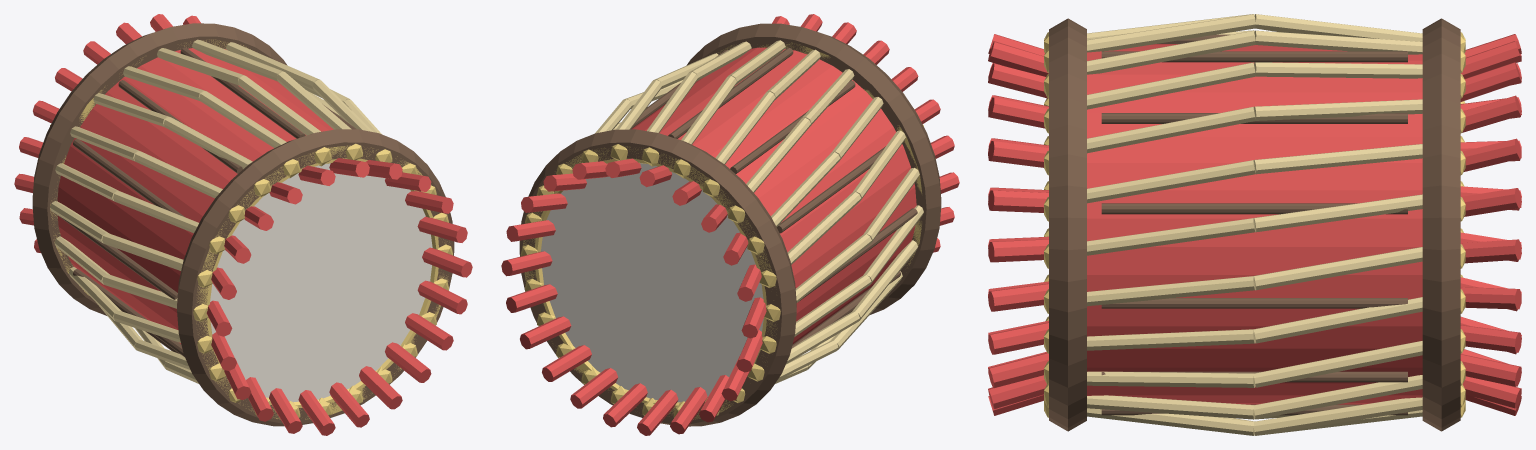
File: noh_kotsuzumi.glb
3 renders of one model, left to right at view 1: azimuth 30°, elevation 25°; view 2: azimuth 150°, elevation 25°; view 3: azimuth 270°, elevation 25°, orthographic. The views are drawn at different scales.
Parts seen in each view (by area): view 1: Tsuzumi hourglass multi-strand hand drum taut drum skin, Tsuzumi hourglass multi-strand hand drum hardwood shell, Tsuzumi hourglass multi-strand hand drum leather head rim, Tsuzumi hourglass multi-strand hand drum tightening rope_00. (×11), Tsuzumi hourglass multi-strand hand drum leather head rim.00, Tsuzumi hourglass multi-strand hand drum tightening rope_01. (×10), Tsuzumi lashing flange, Tsuzumi hourglass multi-strand hand drum wood grain.005, Tsuzumi hourglass multi-strand hand drum wood grain.003, Tsuzumi hourglass multi-strand hand drum wood grain.006, Hourglass tsuzumi cross cord_00.020, Hourglass tsuzumi cross cord_00.019 (+23 smaller); view 2: Tsuzumi hourglass multi-strand hand drum taut drum skin.001, Tsuzumi hourglass multi-strand hand drum hardwood shell, Tsuzumi hourglass multi-strand hand drum leather head rim.00, Tsuzumi hourglass multi-strand hand drum tightening rope_01. (×12), Tsuzumi hourglass multi-strand hand drum leather head rim, Tsuzumi hourglass multi-strand hand drum tightening rope_00. (×11), Tsuzumi lashing flange.001, Tsuzumi hourglass multi-strand hand drum wood grain.005, Tsuzumi hourglass multi-strand hand drum wood grain.003, Hourglass tsuzumi cross cord_01.017, Hourglass tsuzumi cross cord_01.018, Hourglass tsuzumi cross cord_01.016 (+23 smaller); view 3: Tsuzumi hourglass multi-strand hand drum hardwood shell, Tsuzumi hourglass multi-strand hand drum tightening rope_00. (×11), Tsuzumi hourglass multi-strand hand drum tightening rope_01. (×11), Tsuzumi hourglass multi-strand hand drum leather head rim.00, Tsuzumi hourglass multi-strand hand drum leather head rim, Tsuzumi hourglass multi-strand hand drum wood grain, Tsuzumi hourglass multi-strand hand drum wood grain.003, Tsuzumi hourglass multi-strand hand drum wood grain.001, Tsuzumi hourglass multi-strand hand drum tightening rope_01, Tsuzumi hourglass multi-strand hand drum tightening rope_00, Tsuzumi hourglass multi-strand hand drum wood grain.002, Tsuzumi hourglass multi-strand hand drum wood grain.011 (+21 smaller).
Boxes of the visible parts, left/top/right/bottom form: Tsuzumi hourglass multi-strand hand drum taut drum skin: left=210, top=163, right=432, bottom=402; Tsuzumi hourglass multi-strand hand drum hardwood shell: left=57, top=48, right=333, bottom=343; Tsuzumi hourglass multi-strand hand drum leather head rim: left=177, top=129, right=454, bottom=426; Tsuzumi hourglass multi-strand hand drum tightening rope_00. (×11): left=102, top=71, right=373, bottom=369; Tsuzumi hourglass multi-strand hand drum leather head rim.00: left=32, top=23, right=287, bottom=315; Tsuzumi hourglass multi-strand hand drum tightening rope_01. (×10): left=50, top=39, right=319, bottom=320; Tsuzumi lashing flange: left=196, top=145, right=449, bottom=419; Tsuzumi hourglass multi-strand hand drum wood grain.005: left=73, top=139, right=184, bottom=216; Tsuzumi hourglass multi-strand hand drum wood grain.003: left=180, top=47, right=305, bottom=138; Tsuzumi hourglass multi-strand hand drum wood grain.006: left=57, top=215, right=177, bottom=299; Hourglass tsuzumi cross cord_00.020: left=405, top=313, right=453, bottom=350; Hourglass tsuzumi cross cord_00.019: left=385, top=342, right=431, bottom=382; Tsuzumi hourglass multi-strand hand drum taut drum skin.001: left=541, top=163, right=763, bottom=402; Tsuzumi hourglass multi-strand hand drum hardwood shell: left=631, top=47, right=916, bottom=344; Tsuzumi hourglass multi-strand hand drum leather head rim.00: left=519, top=129, right=796, bottom=426; Tsuzumi hourglass multi-strand hand drum tightening rope_01. (×12): left=595, top=72, right=871, bottom=380; Tsuzumi hourglass multi-strand hand drum leather head rim: left=686, top=23, right=941, bottom=314; Tsuzumi hourglass multi-strand hand drum tightening rope_00. (×11): left=653, top=40, right=923, bottom=349; Tsuzumi lashing flange.001: left=522, top=145, right=777, bottom=419; Tsuzumi hourglass multi-strand hand drum wood grain.005: left=777, top=146, right=885, bottom=233; Tsuzumi hourglass multi-strand hand drum wood grain.003: left=668, top=47, right=793, bottom=138; Hourglass tsuzumi cross cord_01.017: left=570, top=368, right=618, bottom=408; Hourglass tsuzumi cross cord_01.018: left=542, top=345, right=591, bottom=381; Hourglass tsuzumi cross cord_01.016: left=603, top=383, right=647, bottom=427; Tsuzumi hourglass multi-strand hand drum hardwood shell: left=1087, top=44, right=1422, bottom=404; Tsuzumi hourglass multi-strand hand drum tightening rope_00. (×11): left=1087, top=14, right=1255, bottom=435; Tsuzumi hourglass multi-strand hand drum tightening rope_01. (×11): left=1253, top=14, right=1422, bottom=435; Tsuzumi hourglass multi-strand hand drum leather head rim.00: left=1422, top=18, right=1460, bottom=431; Tsuzumi hourglass multi-strand hand drum leather head rim: left=1049, top=18, right=1086, bottom=431; Tsuzumi hourglass multi-strand hand drum wood grain: left=1101, top=298, right=1407, bottom=308; Tsuzumi hourglass multi-strand hand drum wood grain.003: left=1101, top=51, right=1407, bottom=62; Tsuzumi hourglass multi-strand hand drum wood grain.001: left=1101, top=203, right=1407, bottom=214; Tsuzumi hourglass multi-strand hand drum tightening rope_01: left=1254, top=247, right=1422, bottom=290; Tsuzumi hourglass multi-strand hand drum tightening rope_00: left=1087, top=276, right=1255, bottom=306; Tsuzumi hourglass multi-strand hand drum wood grain.002: left=1101, top=113, right=1407, bottom=123; Tsuzumi hourglass multi-strand hand drum wood grain.011: left=1101, top=371, right=1407, bottom=382.
Size of the model in its own units: 1.54 by 1.55 by 1.94.
